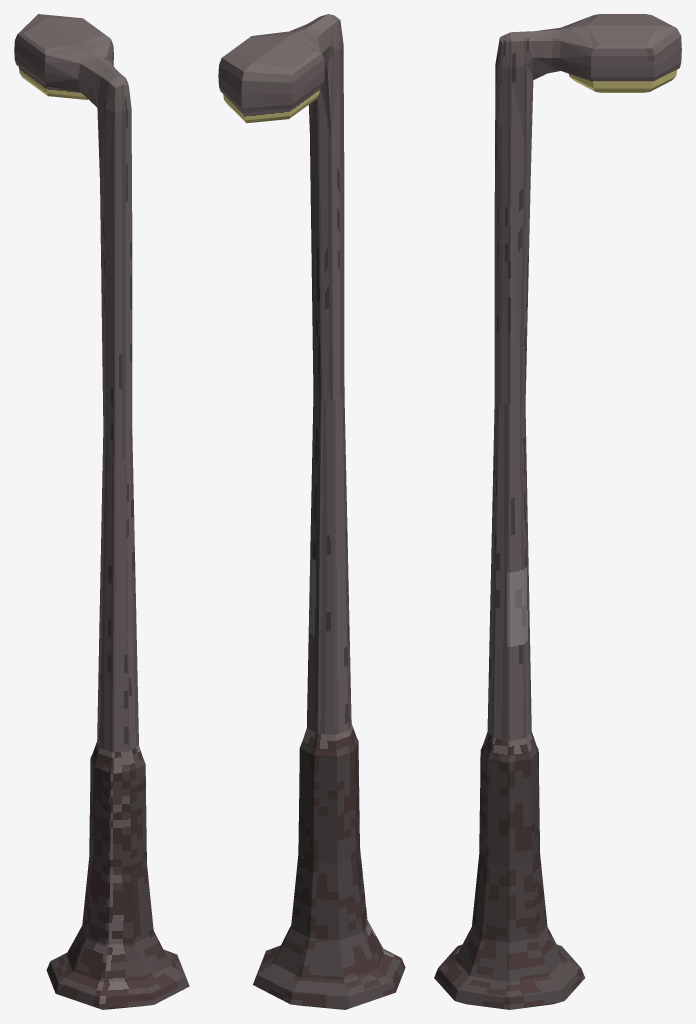
Rendered from Poste de luz.fbx.
3 renders of one model, left to right at view 1: azimuth 30°, elevation 25°; view 2: azimuth 150°, elevation 25°; view 3: azimuth 270°, elevation 25°, orthographic. The views are drawn at different scales.
Visible parts, largest first — view 1: Poste; view 2: Poste; view 3: Poste.
Boxes of the visible parts, left/top/right/bottom form: Poste: left=14, top=14, right=189, bottom=1009; Poste: left=218, top=14, right=405, bottom=1009; Poste: left=434, top=14, right=681, bottom=1009.
Size of the model in its own units: 62.26 by 439 by 102.
1 material, 1 textured.
